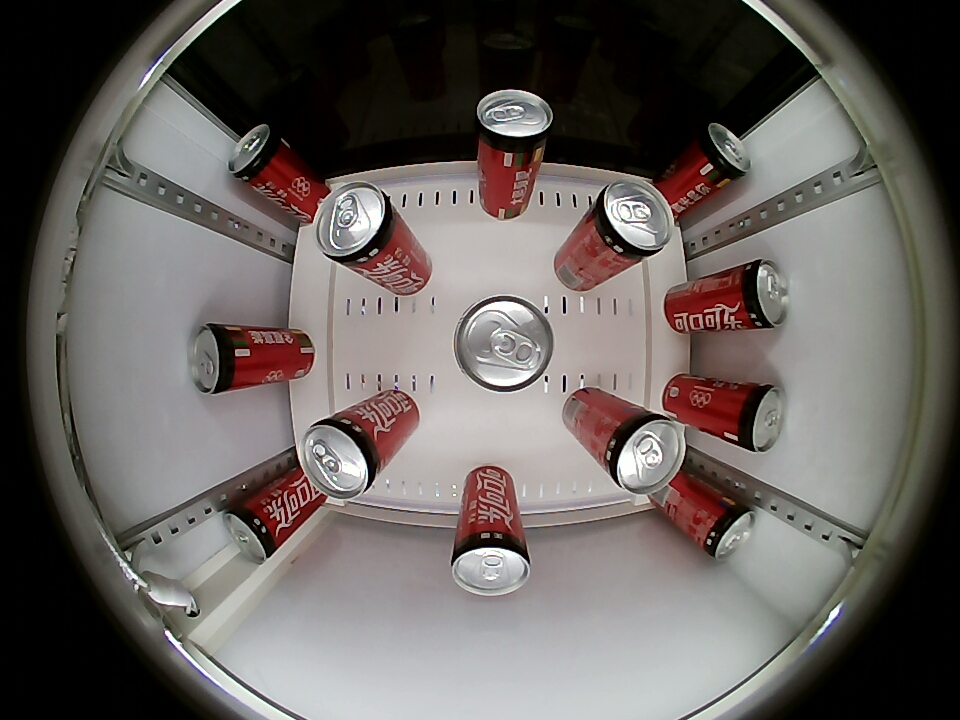lingdukele: (452, 294, 556, 394), (296, 413, 387, 501), (313, 181, 402, 270), (596, 409, 686, 495), (587, 179, 677, 264), (450, 527, 532, 597), (475, 90, 553, 161), (729, 259, 789, 331), (726, 381, 785, 454), (190, 323, 249, 395), (228, 124, 291, 190), (694, 493, 756, 560), (689, 122, 750, 189), (224, 495, 284, 562)
